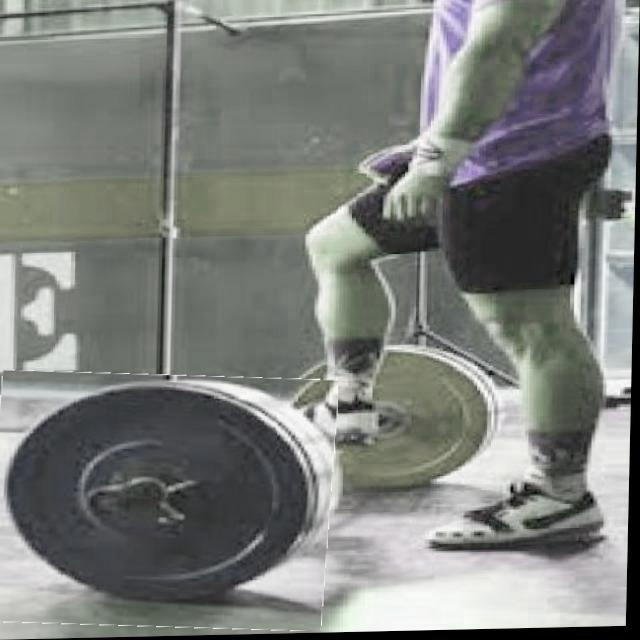barbell: (1, 370, 337, 635)
